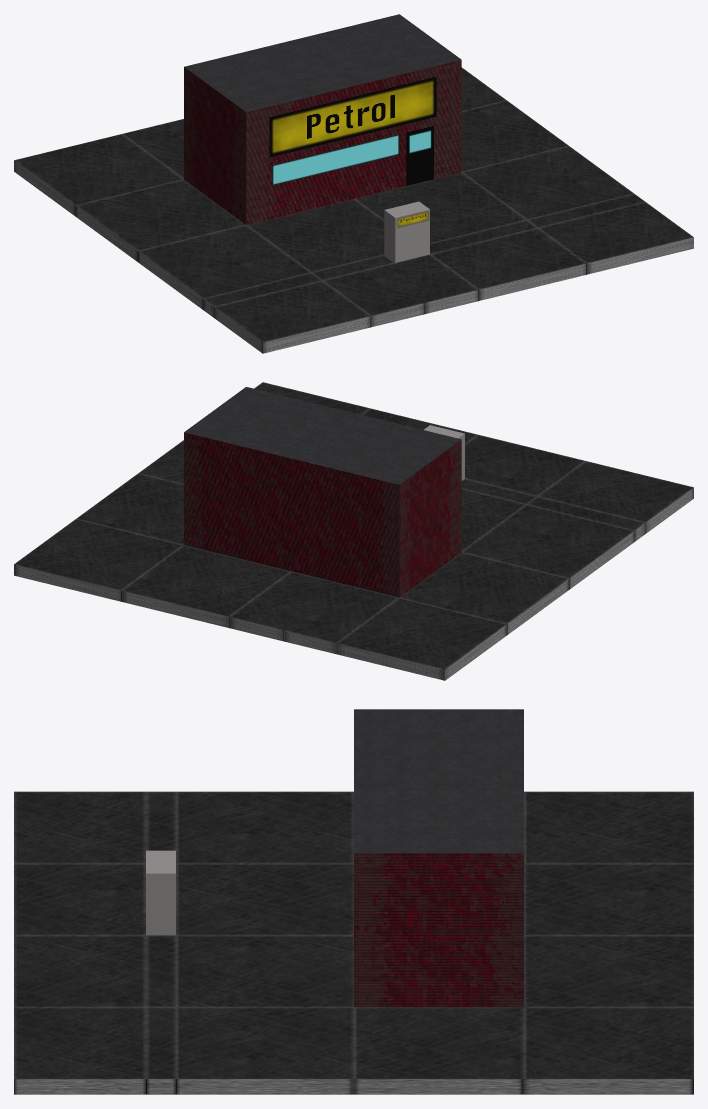
File: ServiceStation_grade_0_Tile_8x8.fbx
3 renders of one model, top to bottom at view 1: azimuth 30°, elevation 25°; view 2: azimuth 150°, elevation 25°; view 3: azimuth 270°, elevation 25°, orthographic. The views are drawn at different scales.
Visible parts, largest first — view 1: Cube; view 2: Cube; view 3: Cube.
Boxes of the visible parts, x1,y1,x2,y2 form: Cube: (14,14,693,353); Cube: (14,382,693,680); Cube: (14,709,693,1094).
Bounding box in the file's own units: 200 × 55 × 200.
